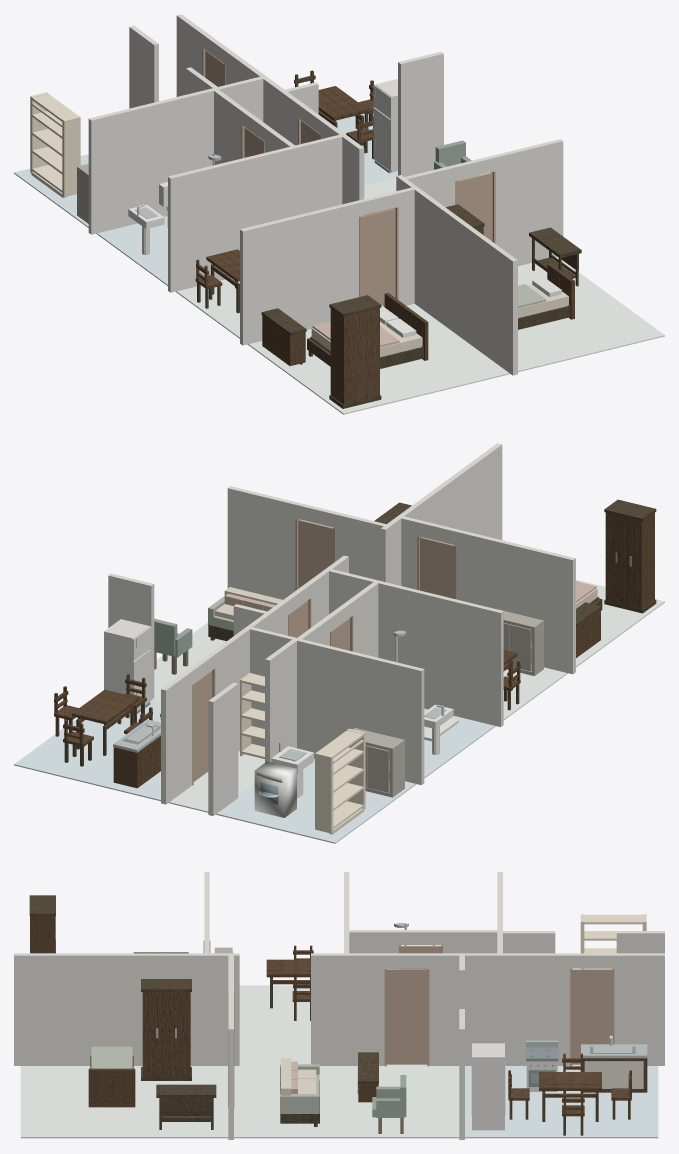
The picture shows the model from 3 angles, top to bottom: view 1: azimuth 30°, elevation 25°; view 2: azimuth 150°, elevation 25°; view 3: azimuth 270°, elevation 25°; orthographic projection. The views are drawn at different scales.
Parts seen in each view (by area): view 1: H19_WALL_11, H19_WALL_10, H19_WALL_07, H19_WALL_15, H19_FLOOR_08_QUARTO_1, H19_FLOOR_02_QUARTO_2, H19_WALL_02, H19_WALL_00, H19_FURN_22_wardrobe__06__corpo, H19_DOOR_04_LEAF, H19_WALL_05, H19_FLOOR_06_BANHEIRO (+29 smaller); view 2: H19_WALL_11, H19_WALL_10, H19_WALL_15, H19_WALL_02, H19_WALL_07, H19_FLOOR_00_COZINHA_REFEICOES, H19_FLOOR_04_LAVANDERIA, H19_WALL_04, H19_WALL_08, H19_WALL_09, H19_WALL_05, H19_WALL_03 (+32 smaller); view 3: H19_WALL_07, H19_WALL_05, H19_FLOOR_01_SALA, H19_FLOOR_02_QUARTO_2, H19_WALL_06, H19_FLOOR_00_COZINHA_REFEICOES, H19_FLOOR_07_JANTAR, H19_WALL_04, H19_DOOR_02_LEAF, H19_DOOR_01_LEAF, H19_FURN_00_fridge__05__gabinete, H19_FURN_13_wardrobe__03__porta_direita (+32 smaller).
Boxes of the visible parts, x1,y1,x2,y2 form: H19_WALL_11: [168, 134, 344, 292]; H19_WALL_10: [88, 76, 264, 234]; H19_WALL_07: [396, 175, 517, 375]; H19_WALL_15: [240, 201, 359, 345]; H19_FLOOR_08_QUARTO_1: [247, 303, 509, 414]; H19_FLOOR_02_QUARTO_2: [518, 256, 664, 372]; H19_WALL_02: [492, 139, 563, 266]; H19_WALL_00: [398, 51, 443, 176]; H19_FURN_22_wardrobe__06__corpo: [330, 308, 379, 404]; H19_DOOR_04_LEAF: [361, 208, 395, 306]; H19_WALL_05: [225, 49, 303, 145]; H19_FLOOR_06_BANHEIRO: [96, 216, 167, 285]; H19_WALL_11: [329, 569, 503, 726]; H19_WALL_10: [248, 627, 424, 784]; H19_WALL_15: [456, 529, 575, 674]; H19_WALL_02: [227, 486, 298, 599]; H19_WALL_07: [380, 443, 502, 585]; H19_FLOOR_00_COZINHA_REFEICOES: [14, 699, 160, 801]; H19_FLOOR_04_LAVANDERIA: [216, 759, 416, 843]; H19_WALL_04: [161, 670, 192, 804]; H19_WALL_08: [208, 682, 238, 815]; H19_WALL_09: [265, 639, 297, 762]; H19_WALL_05: [210, 600, 288, 751]; H19_WALL_03: [334, 512, 388, 580]; H19_WALL_07: [14, 953, 239, 1065]; H19_WALL_05: [428, 953, 571, 1065]; H19_FLOOR_01_SALA: [234, 1065, 459, 1138]; H19_FLOOR_02_QUARTO_2: [20, 1066, 228, 1138]; H19_WALL_06: [311, 953, 385, 1065]; H19_FLOOR_00_COZINHA_REFEICOES: [465, 1065, 658, 1138]; H19_FLOOR_07_JANTAR: [239, 985, 310, 1064]; H19_WALL_04: [613, 953, 664, 1065]; H19_DOOR_02_LEAF: [386, 969, 427, 1064]; H19_DOOR_01_LEAF: [572, 969, 612, 1064]; H19_FURN_00_fridge__05__gabinete: [472, 1043, 504, 1130]; H19_FURN_13_wardrobe__03__porta_direita: [142, 995, 165, 1074].
Bounding box in the file's own units: 7.42 × 2.46 × 12.98.
22 materials, 3 textured.
